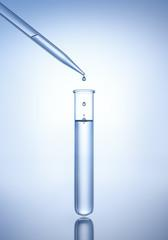Test tube: (54, 63, 106, 230)
